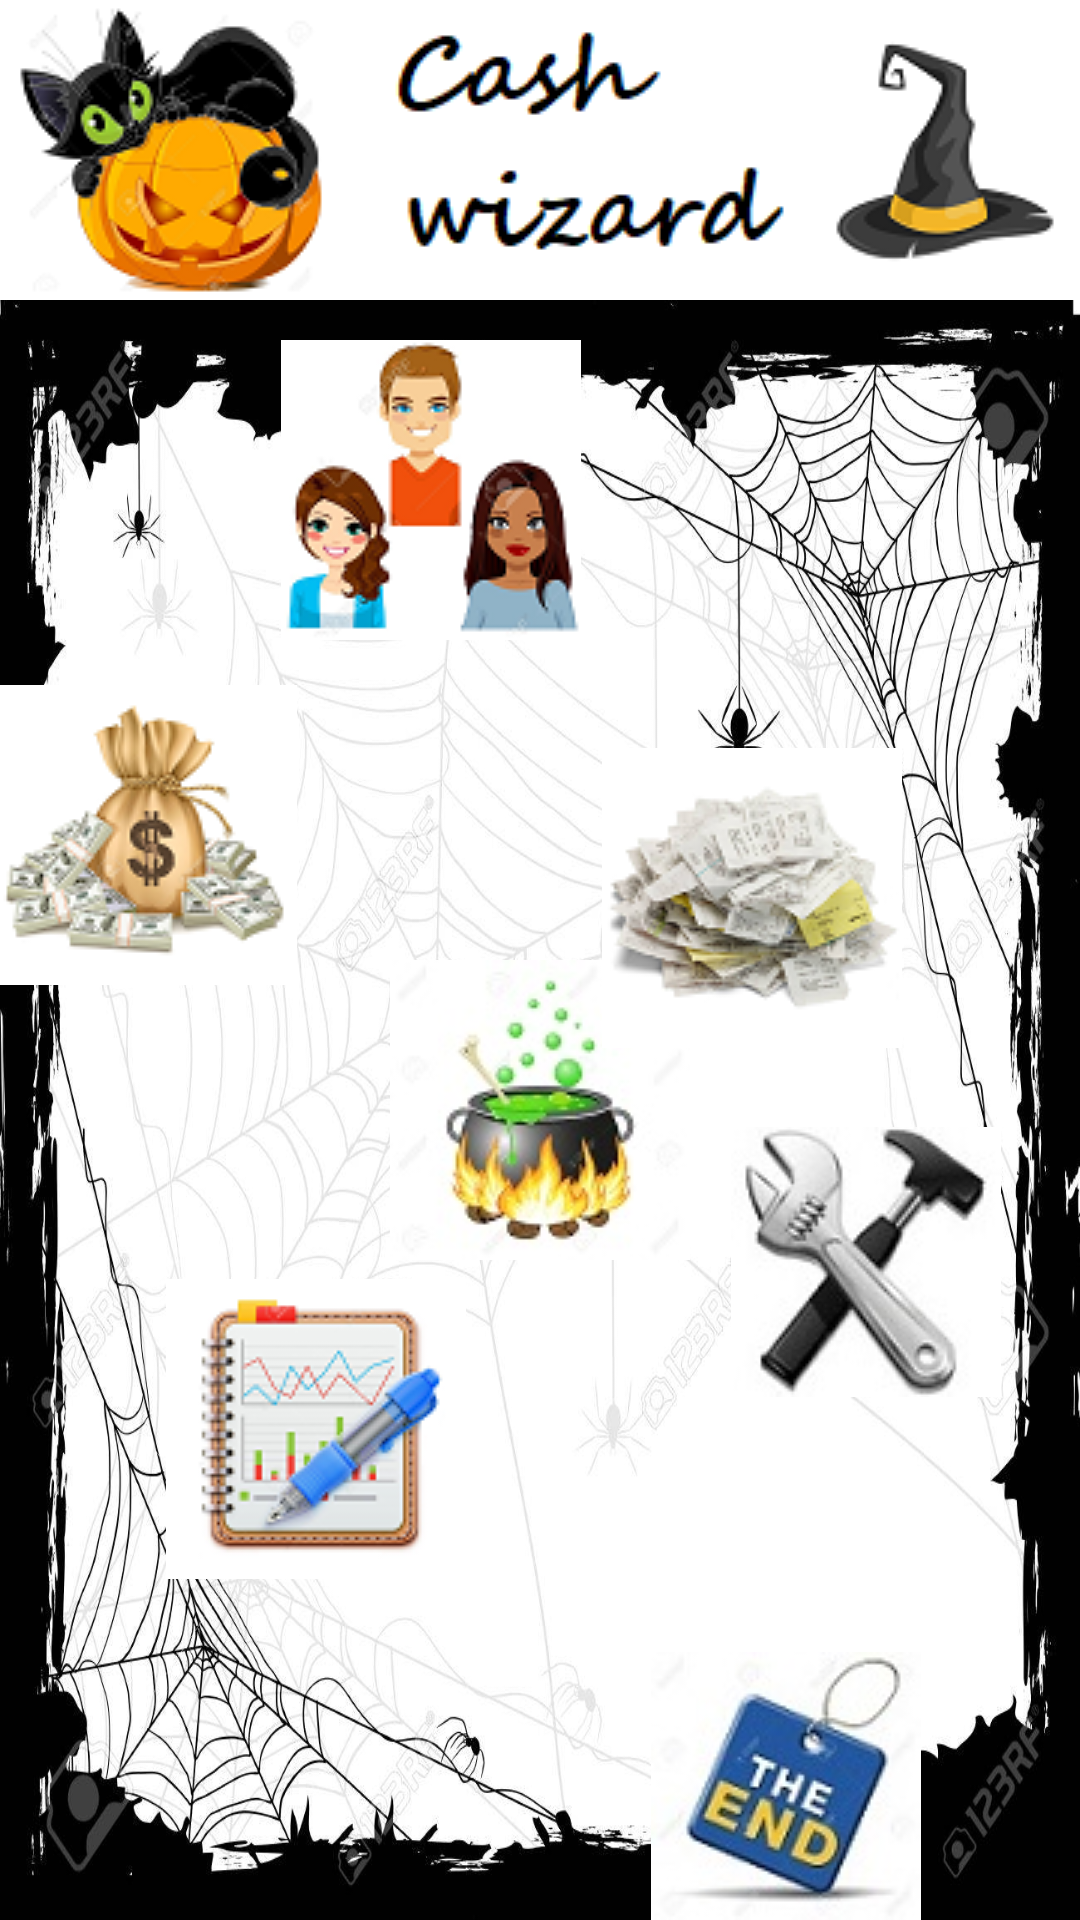

Icon click points for this 1080px x 1920px phone screenshot, format (x=x, y=y):
balance: (x=145, y=829)
bills: (x=753, y=898)
magic pot: (x=540, y=1110)
people: (x=432, y=487)
reports: (x=321, y=1424)
settings: (x=865, y=1262)
